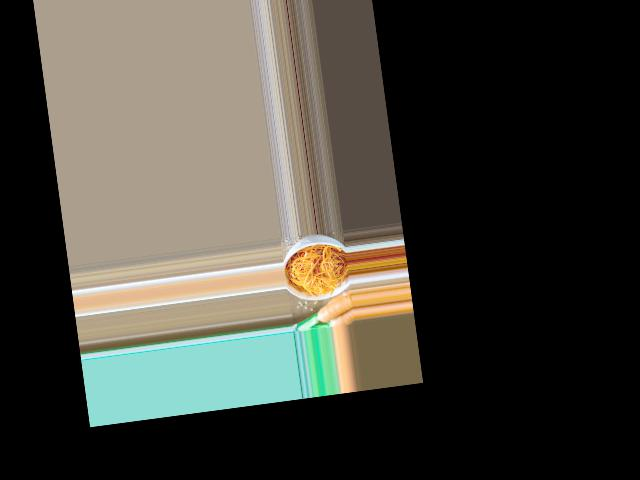carrot: (313, 295, 353, 322)
